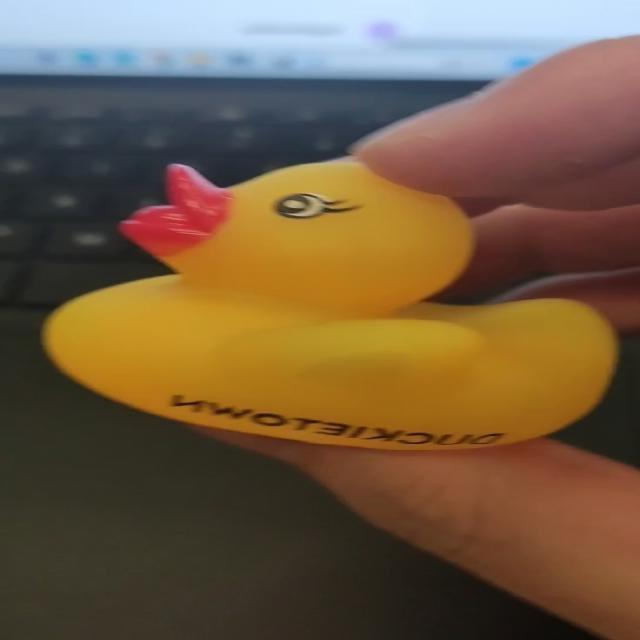rubber-duck: (43, 159, 615, 448)
